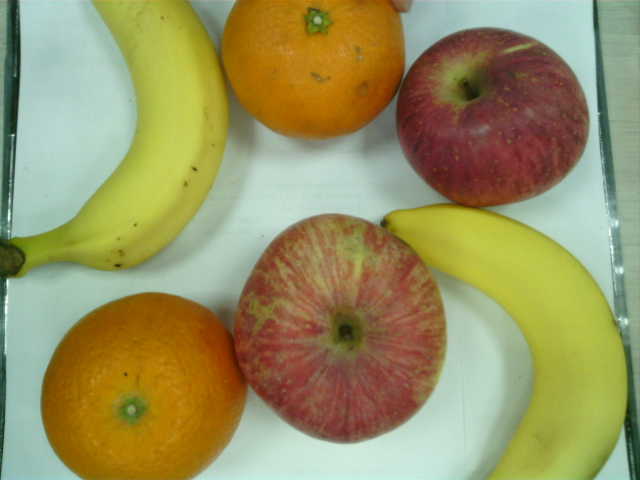normal_apple: (235, 214, 448, 444), (397, 27, 591, 207)
normal_banana: (382, 203, 628, 480), (3, 1, 228, 276)
normal_orange: (41, 292, 247, 480), (221, 1, 405, 141)
